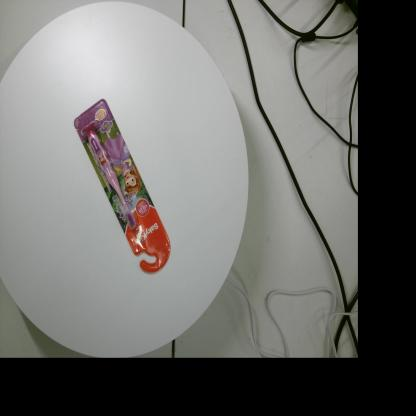Personal Hygiene: (74, 99, 170, 273)
